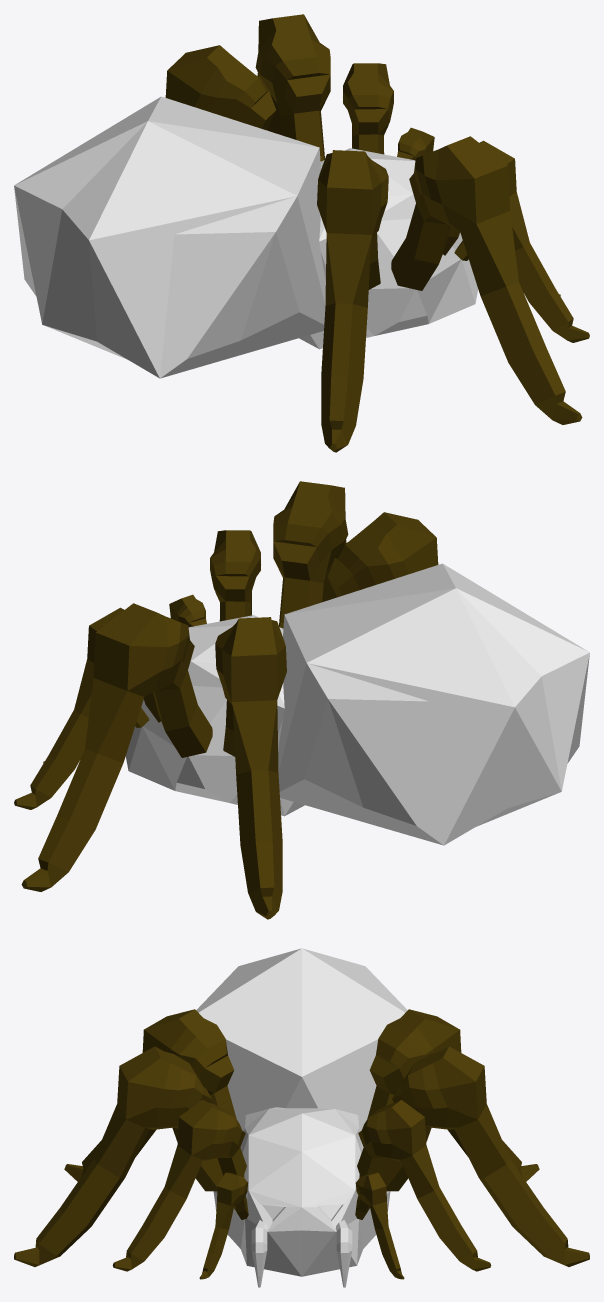
The model's file is spiderv2.fbx.
The picture shows the model from 3 angles, top to bottom: view 1: azimuth 30°, elevation 25°; view 2: azimuth 150°, elevation 25°; view 3: azimuth 270°, elevation 25°; orthographic projection. The views are drawn at different scales.
Visible parts, largest first — view 1: Icosphere, Cylinder.002, Icosphere.001; view 2: Icosphere, Cylinder.002, Icosphere.001; view 3: Cylinder.002, Icosphere, Icosphere.001, Cylinder.
Boxes of the visible parts, x1,y1,x2,y2 form: Icosphere: [14, 96, 325, 378]; Cylinder.002: [165, 14, 589, 452]; Icosphere.001: [299, 148, 478, 349]; Icosphere: [278, 563, 589, 845]; Cylinder.002: [14, 481, 438, 919]; Icosphere.001: [125, 615, 304, 816]; Cylinder.002: [14, 1009, 589, 1279]; Icosphere: [196, 948, 407, 1130]; Icosphere.001: [213, 1107, 390, 1276]; Cylinder: [251, 1219, 352, 1287].
Size of the model in its own units: 181 by 94.52 by 232.
